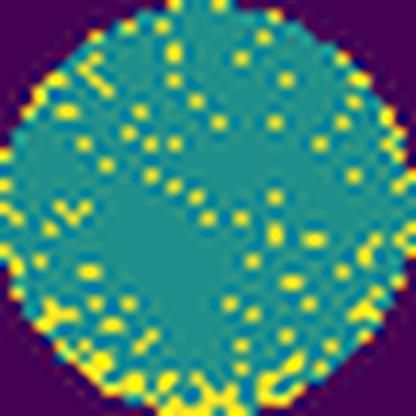Edge-Loc: (59, 344, 250, 415), (256, 350, 309, 409)
